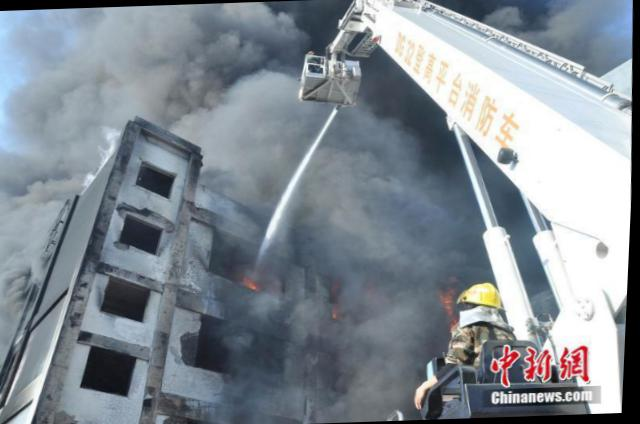smoke: (76, 6, 251, 104), (331, 137, 456, 249), (353, 251, 420, 379), (206, 74, 294, 163), (15, 79, 105, 138), (0, 159, 31, 278), (552, 0, 608, 47), (250, 9, 295, 54), (293, 305, 317, 332)
